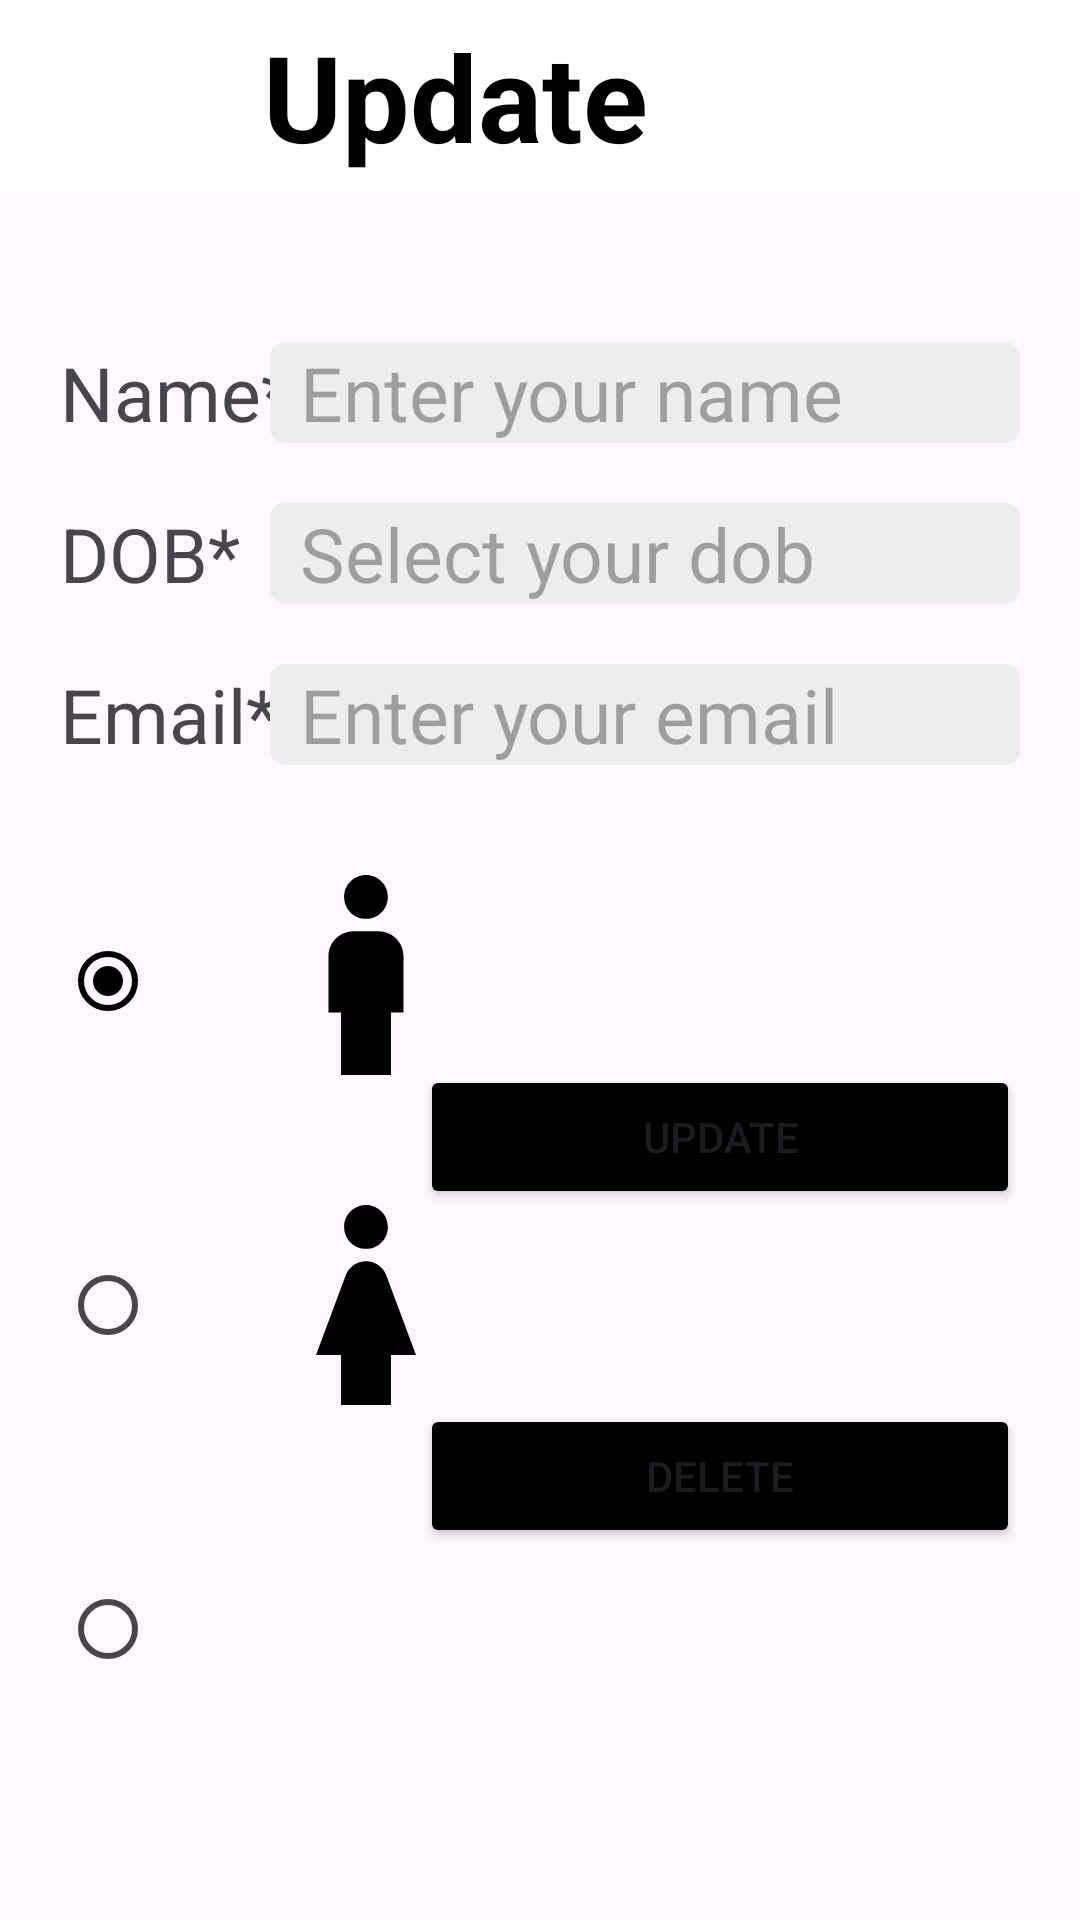

Named icons in this screenshot (1080*1920) and their bounding boxes, (x1, y1, x2, y2):
BOY: (328, 875, 404, 1075)
GIRL: (316, 1205, 416, 1405)
